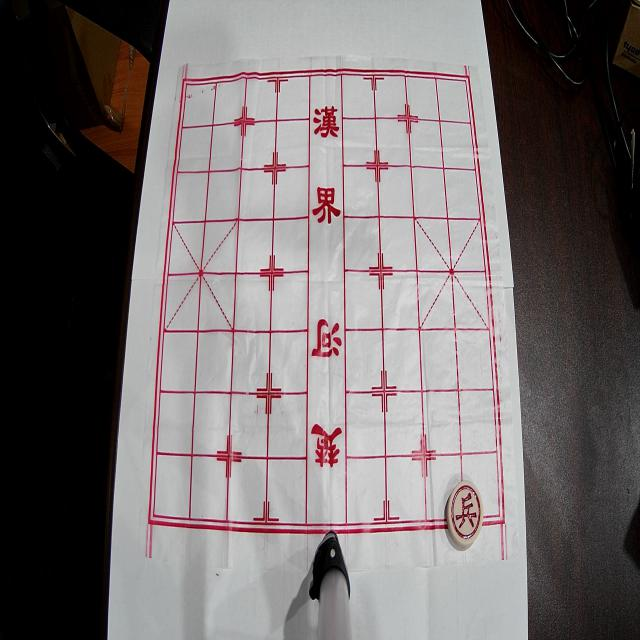red-soldier: (446, 481, 484, 546)
